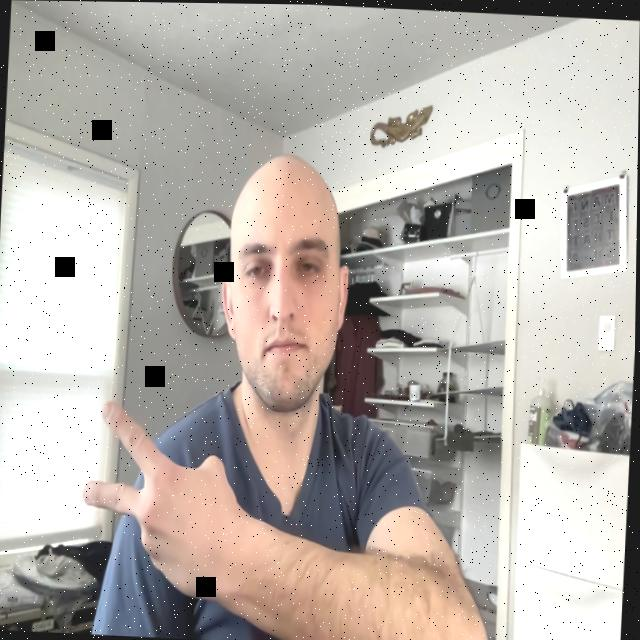Scissors: (76, 392, 248, 611)
